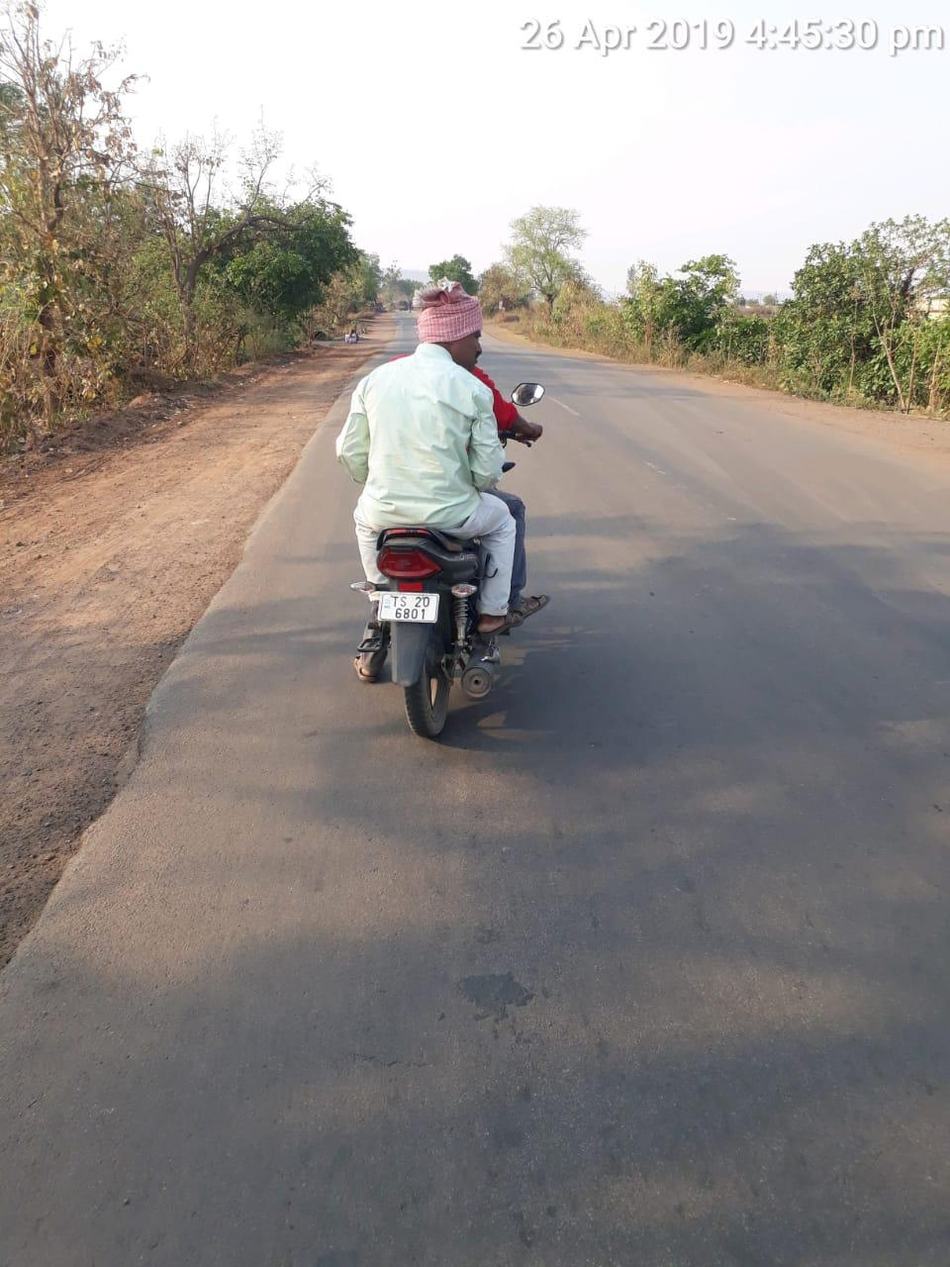plate: (353, 569, 464, 656)
